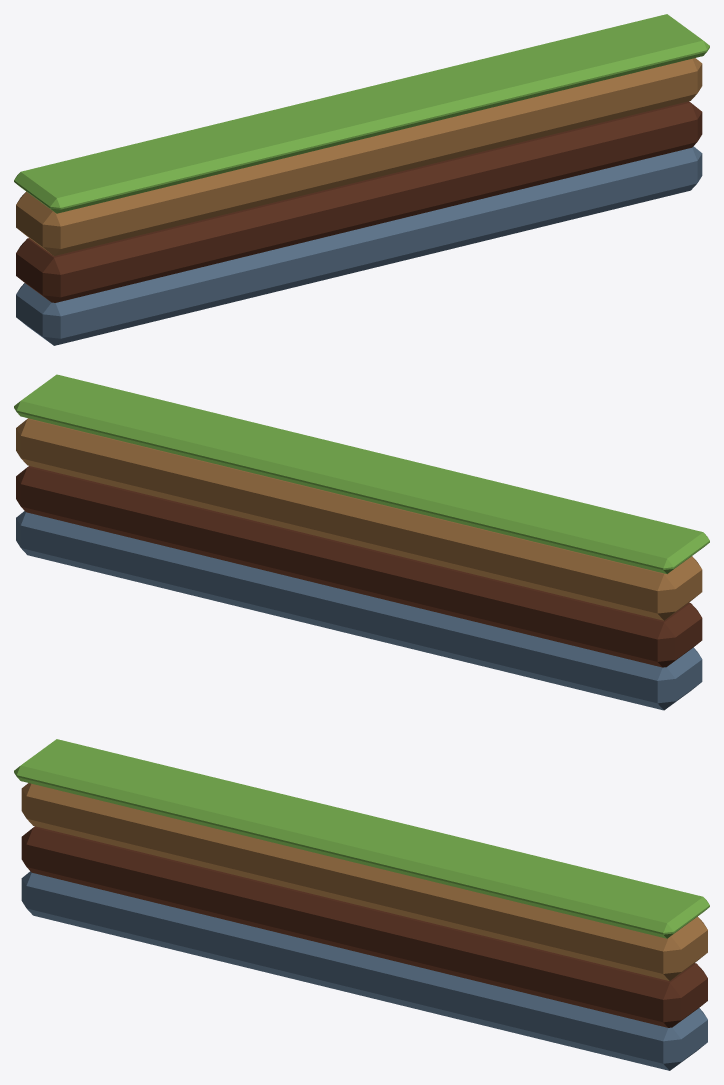
Rendered from cliff_edge.glb.
3 renders of one model, top to bottom at view 1: azimuth 30°, elevation 25°; view 2: azimuth 150°, elevation 25°; view 3: azimuth 330°, elevation 25°, orthographic.
Visible parts, largest first — view 1: cliff_edge_Surface; view 2: cliff_edge_Surface; view 3: cliff_edge_Surface.
Part boxes in pixels (<box>): cliff_edge_Surface: <box>14,14,709,345</box>; cliff_edge_Surface: <box>14,374,709,710</box>; cliff_edge_Surface: <box>14,739,709,1070</box>.
Bounding box in the file's own units: 4 × 0.895 × 0.47.
1 material, 1 textured.
